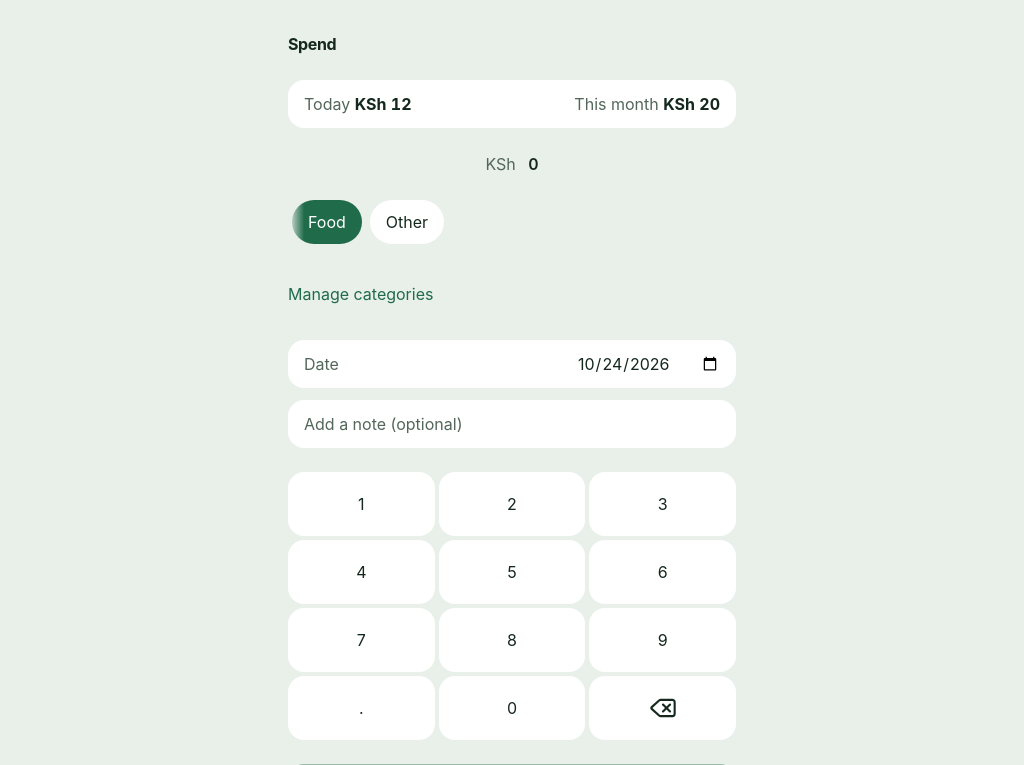
Test: SpendTab › shows totals and manages categories
expect the text "KSh 12" is shown: met, box [355,94,412,114]
expect the text "KSh 20" is shown: met, box [663,94,720,114]
Click the button "Manage categories".
click(361, 294)  # box [288,272,736,316]
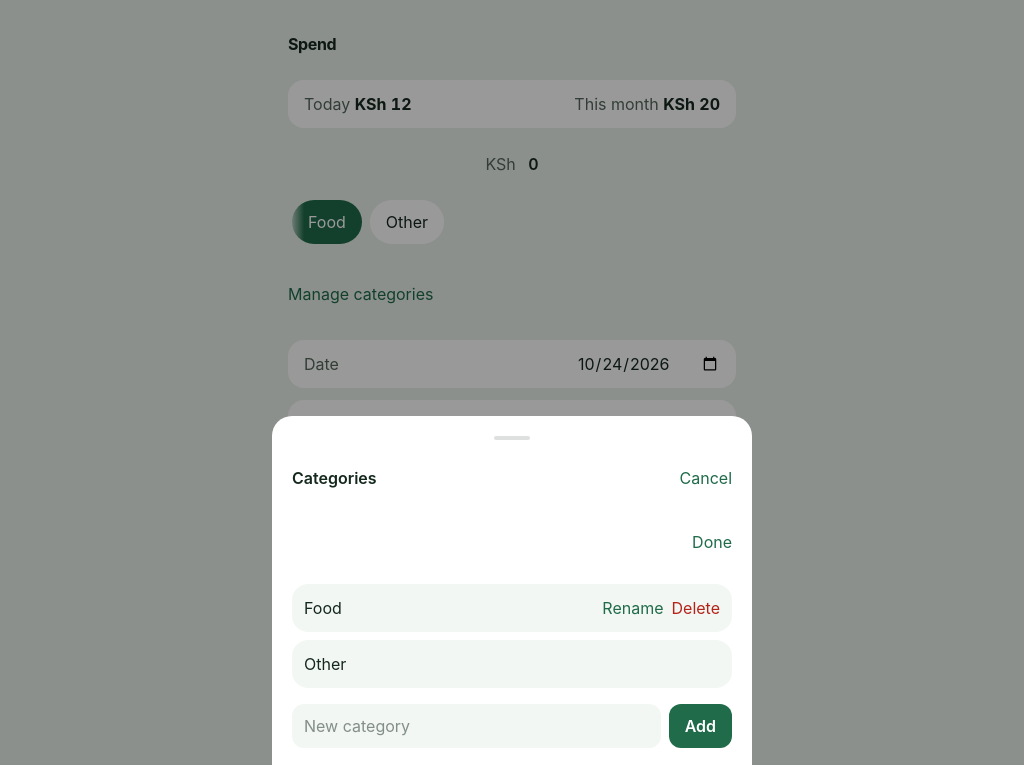
Type "Travel" into the field labelled "New category".
click(476, 726); type("Travel")  # box [292,704,661,748]
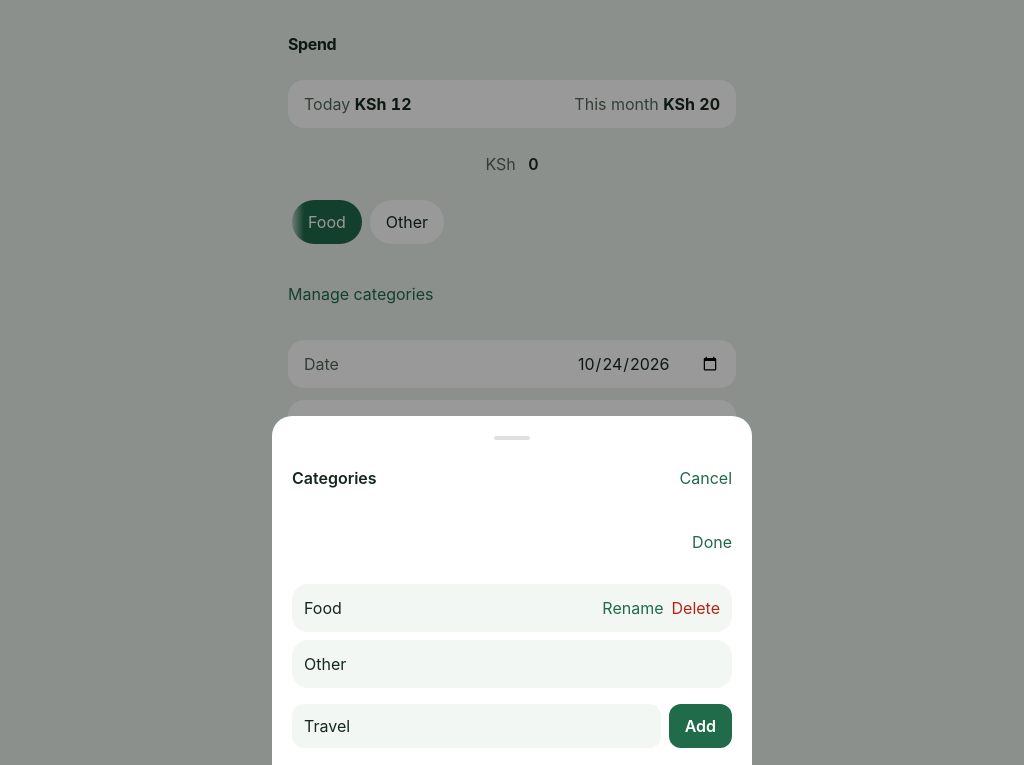
Click the button "Add".
click(700, 726)  # box [669,704,732,748]
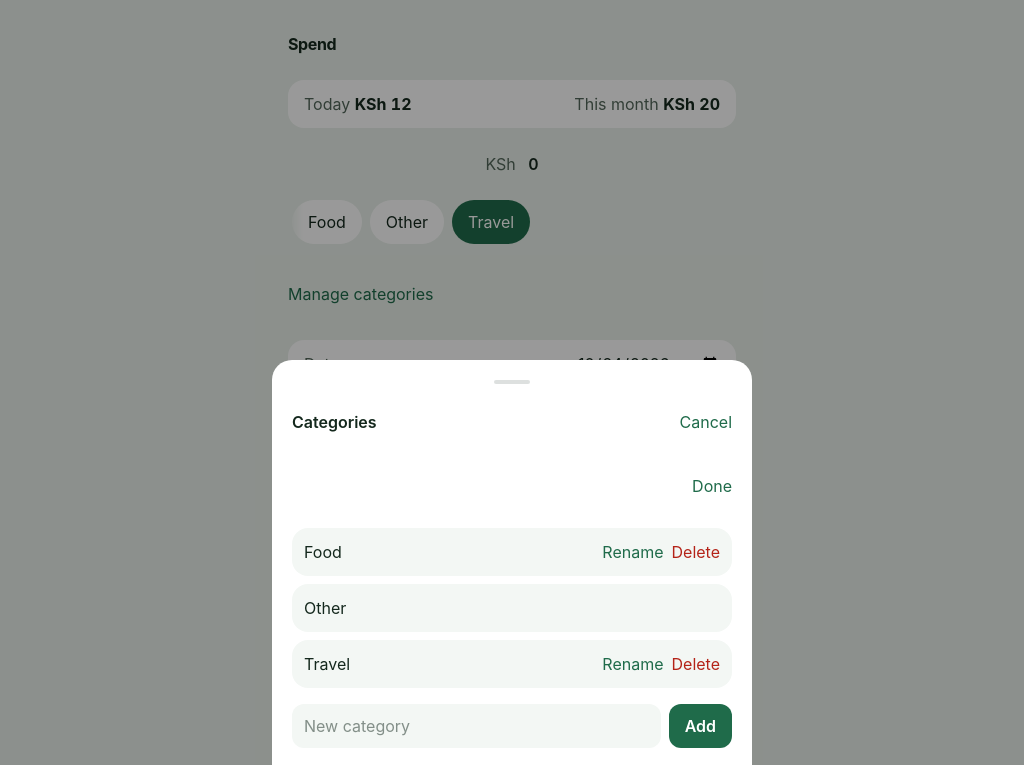
expect the number of buttons "Travel" is 2: met, box [452,200,530,244]; [304,654,350,674]
Click the 2nd button "Delete".
click(696, 664)  # box [672,642,720,686]
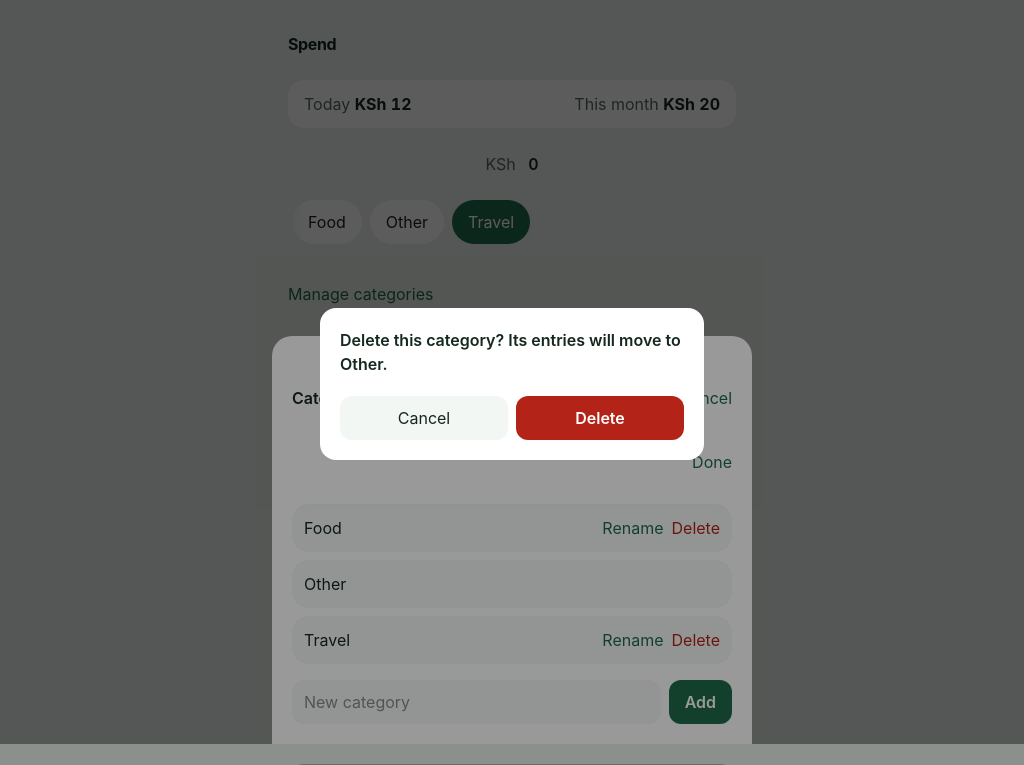
expect the heading "Delete this category? Its entries will move to Other." is shown: met, box [340,328,684,376]
